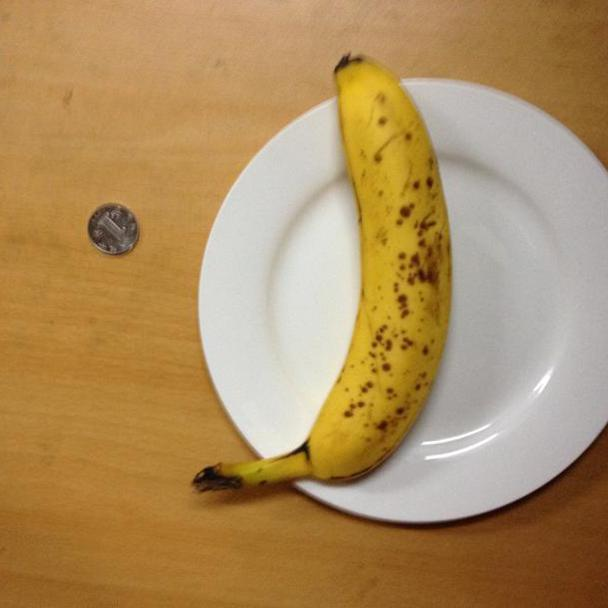banana: (263, 53, 472, 490)
